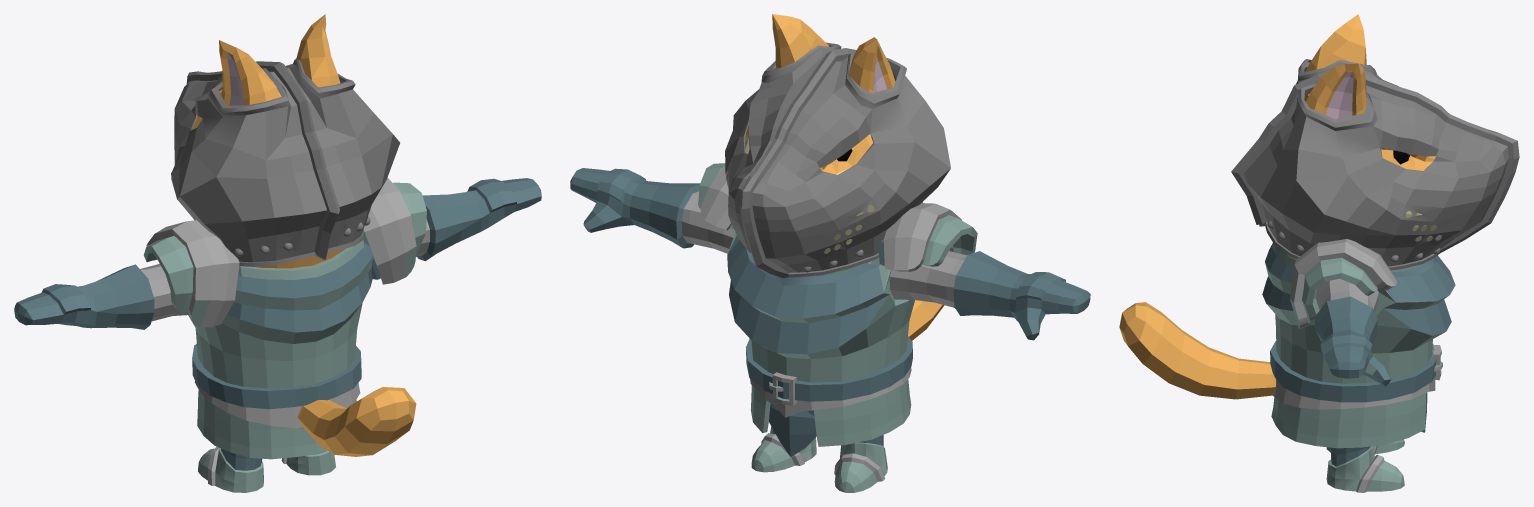
File: Armor_Set_1_Prova_SEP_.fbx
The picture shows the model from 3 angles, left to right: view 1: azimuth 30°, elevation 25°; view 2: azimuth 150°, elevation 25°; view 3: azimuth 270°, elevation 25°; orthographic projection. The views are drawn at different scales.
Visible parts, largest first — view 1: polySurface1.012, Helmet 1, polySurface1.015, polySurface1.013, polySurface1.014, polySurface1.016, polySurface1.017; view 2: polySurface1.012, Helmet 1, polySurface1.013, polySurface1.014, polySurface1.015, polySurface1.017, polySurface1.016; view 3: Helmet 1, polySurface1.012, polySurface1.016, polySurface1.014, polySurface1.017.
Part boxes in pixels (bbox=[...]): polySurface1.012: bbox=[140, 14, 429, 459]; Helmet 1: bbox=[171, 58, 399, 266]; polySurface1.015: bbox=[143, 220, 241, 327]; polySurface1.013: bbox=[14, 264, 154, 329]; polySurface1.014: bbox=[417, 178, 541, 261]; polySurface1.016: bbox=[363, 177, 426, 284]; polySurface1.017: bbox=[198, 446, 335, 492]; polySurface1.012: bbox=[681, 14, 972, 456]; Helmet 1: bbox=[725, 42, 950, 278]; polySurface1.013: bbox=[953, 251, 1090, 340]; polySurface1.014: bbox=[570, 168, 699, 248]; polySurface1.015: bbox=[878, 203, 977, 271]; polySurface1.017: bbox=[751, 427, 887, 492]; polySurface1.016: bbox=[698, 163, 733, 230]; Helmet 1: bbox=[1231, 59, 1519, 270]; polySurface1.012: bbox=[1119, 14, 1455, 448]; polySurface1.016: bbox=[1289, 239, 1396, 328]; polySurface1.014: bbox=[1315, 296, 1391, 386]; polySurface1.017: bbox=[1326, 439, 1404, 492].
Bounding box in the file's own units: 175 × 143 × 122.
